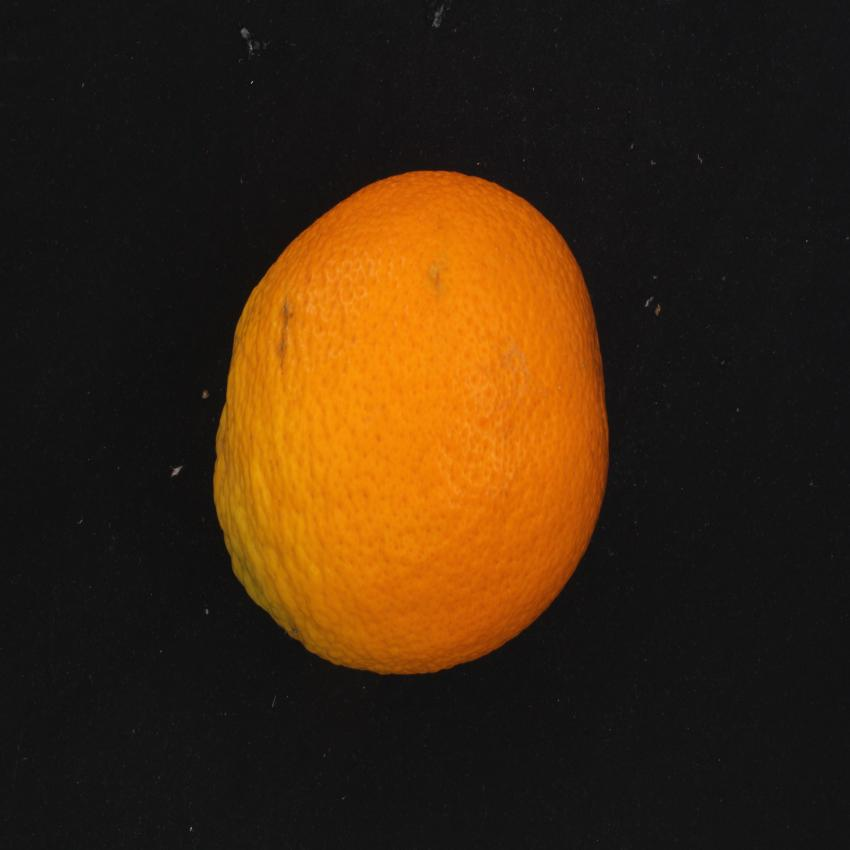Buen estado: (200, 158, 622, 691)
